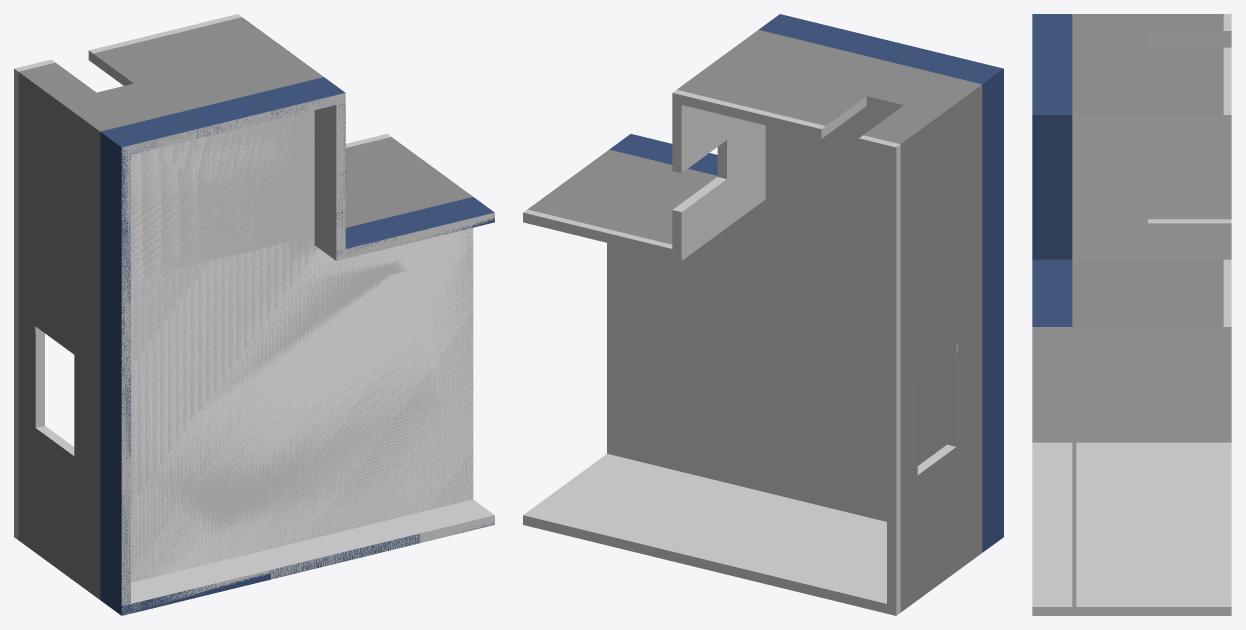
Rendered from bld_office_wing_ext.glb.
The picture shows the model from 3 angles, left to right: view 1: azimuth 30°, elevation 25°; view 2: azimuth 150°, elevation 25°; view 3: azimuth 270°, elevation 25°; orthographic projection. The views are drawn at different scales.
Visible parts, largest first — view 1: g_bld_office_wing_ext, c_bld_office_wing_ext_012, c_bld_office_wing_ext_011, c_bld_office_wing_ext_001, c_bld_office_wing_ext_002, c_bld_office_wing_ext_007, c_bld_office_wing_ext_010, c_bld_office_wing_ext_014, c_bld_office_wing_ext_008, c_bld_office_wing_ext_009, c_bld_office_wing_ext_003, c_bld_office_wing_ext_013 (+1 smaller); view 2: g_bld_office_wing_ext, c_bld_office_wing_ext_012, c_bld_office_wing_ext_001, c_bld_office_wing_ext_011, c_bld_office_wing_ext_009, c_bld_office_wing_ext_002, c_bld_office_wing_ext_014, c_bld_office_wing_ext_007, c_bld_office_wing_ext_008, c_bld_office_wing_ext_010, c_bld_office_wing_ext_013, c_bld_office_wing_ext_003 (+1 smaller); view 3: g_bld_office_wing_ext, c_bld_office_wing_ext_001, c_bld_office_wing_ext_010, c_bld_office_wing_ext_014, c_bld_office_wing_ext_009, c_bld_office_wing_ext_002, c_bld_office_wing_ext_013, c_bld_office_wing_ext_008, c_bld_office_wing_ext_007, c_bld_office_wing_ext_012, c_bld_office_wing_ext_005.
Boxes of the visible parts, x1,y1,x2,y2 form: g_bld_office_wing_ext: (18,17,494,615); c_bld_office_wing_ext_012: (131,228,473,582); c_bld_office_wing_ext_011: (131,110,314,279); c_bld_office_wing_ext_001: (14,499,494,615); c_bld_office_wing_ext_002: (14,67,130,389); c_bld_office_wing_ext_007: (88,14,345,138); c_bld_office_wing_ext_010: (14,412,130,615); c_bld_office_wing_ext_014: (314,94,345,172); c_bld_office_wing_ext_008: (345,134,494,258); c_bld_office_wing_ext_009: (314,197,345,260); c_bld_office_wing_ext_003: (14,311,44,427); c_bld_office_wing_ext_013: (314,157,345,211); g_bld_office_wing_ext: (527,14,1003,612); c_bld_office_wing_ext_012: (607,190,947,521); c_bld_office_wing_ext_001: (523,453,900,615); c_bld_office_wing_ext_011: (765,106,893,219); c_bld_office_wing_ext_009: (672,151,765,260); c_bld_office_wing_ext_002: (887,142,900,389); c_bld_office_wing_ext_014: (672,94,750,172); c_bld_office_wing_ext_007: (672,89,866,138); c_bld_office_wing_ext_008: (523,209,672,258); c_bld_office_wing_ext_010: (887,444,955,615); c_bld_office_wing_ext_013: (717,122,765,178); c_bld_office_wing_ext_003: (887,374,917,490); g_bld_office_wing_ext: (1032,14,1223,326); c_bld_office_wing_ext_001: (1032,442,1231,615); c_bld_office_wing_ext_010: (1032,336,1231,442); c_bld_office_wing_ext_014: (1072,115,1231,187); c_bld_office_wing_ext_009: (1072,219,1231,259); c_bld_office_wing_ext_002: (1148,14,1231,219); c_bld_office_wing_ext_013: (1072,187,1147,223); c_bld_office_wing_ext_008: (1032,259,1231,335); c_bld_office_wing_ext_007: (1072,47,1231,123); c_bld_office_wing_ext_012: (1072,327,1076,615); c_bld_office_wing_ext_005: (1148,16,1231,39).
Bounding box in the file's own units: 10 × 12 × 5.
